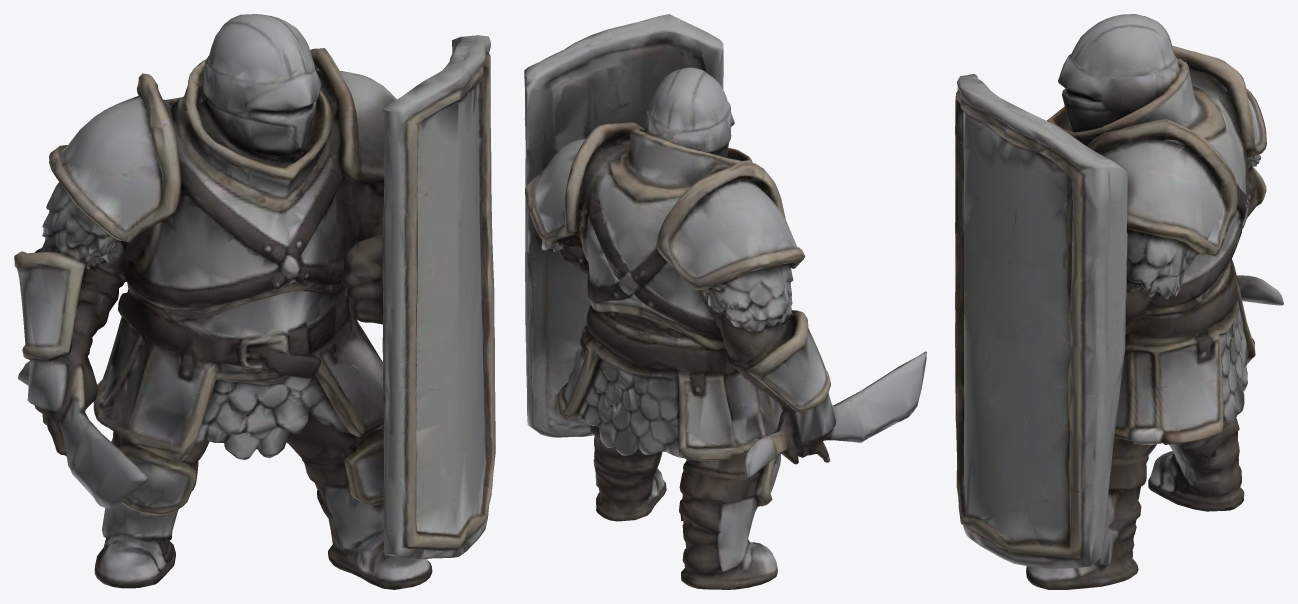
The model's file is defenseur.glb.
3 views of the same model, side by side, from view 1: azimuth 30°, elevation 25°; view 2: azimuth 150°, elevation 25°; view 3: azimuth 270°, elevation 25° (orthographic). The views are drawn at different scales.
Size of the model in its own units: 1.61 by 2 by 1.16.
Materials: 1 (1 with a texture image).
